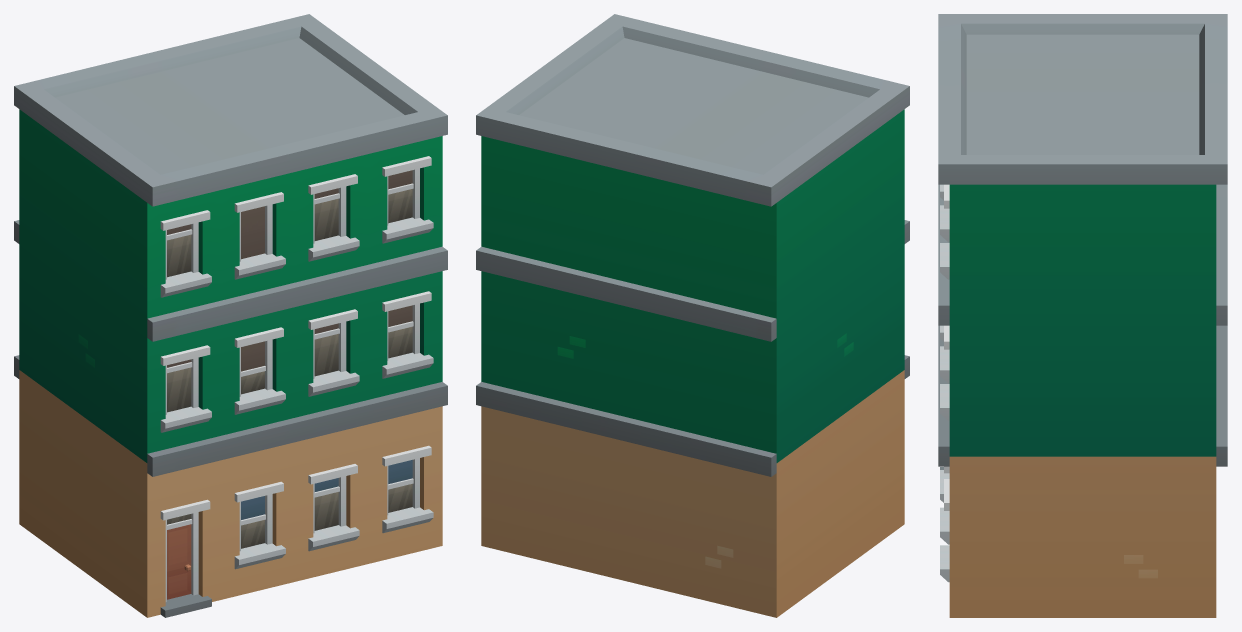
File: city-d.glb
3 views of the same model, side by side, from view 1: azimuth 30°, elevation 25°; view 2: azimuth 150°, elevation 25°; view 3: azimuth 270°, elevation 25° (orthographic). The views are drawn at different scales.
Visible parts, largest first — view 1: building_D_withoutBase; view 2: building_D_withoutBase; view 3: building_D_withoutBase.
Part boxes in pixels (x1,y1,x2,y2): building_D_withoutBase: [14, 14, 447, 617]; building_D_withoutBase: [476, 14, 909, 617]; building_D_withoutBase: [938, 14, 1227, 617].
Bounding box in the file's own units: 1.61 × 2.25 × 1.3.
Materials: 1 (1 with a texture image).
